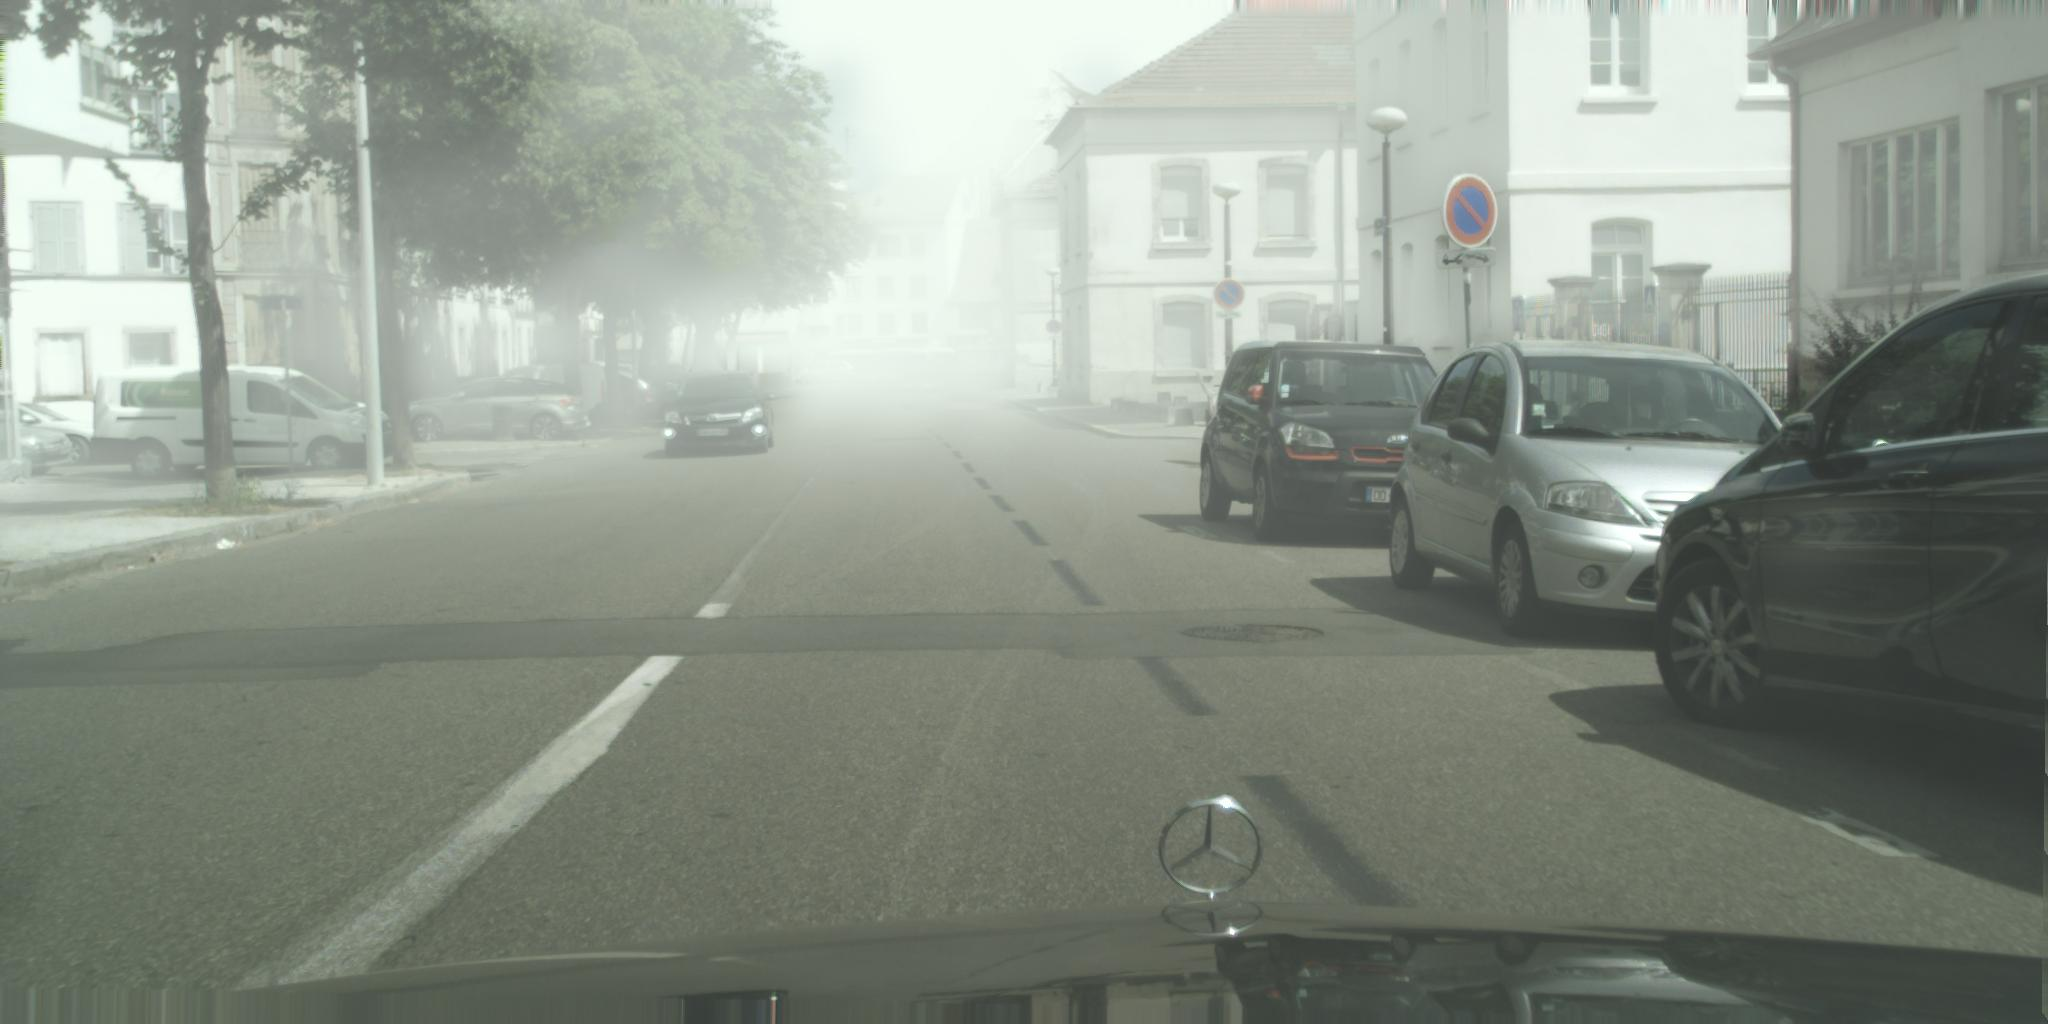bicycle: (780, 367, 816, 387)
car: (1652, 273, 2048, 761), (1390, 340, 1802, 639), (1200, 340, 1499, 543), (91, 364, 404, 481), (409, 379, 592, 443), (660, 371, 777, 458), (488, 349, 611, 426), (7, 402, 114, 466), (579, 360, 695, 415), (598, 360, 720, 406), (1, 404, 74, 477), (579, 366, 666, 421), (428, 376, 494, 408), (794, 360, 865, 383), (869, 363, 940, 381), (957, 360, 1006, 380)
